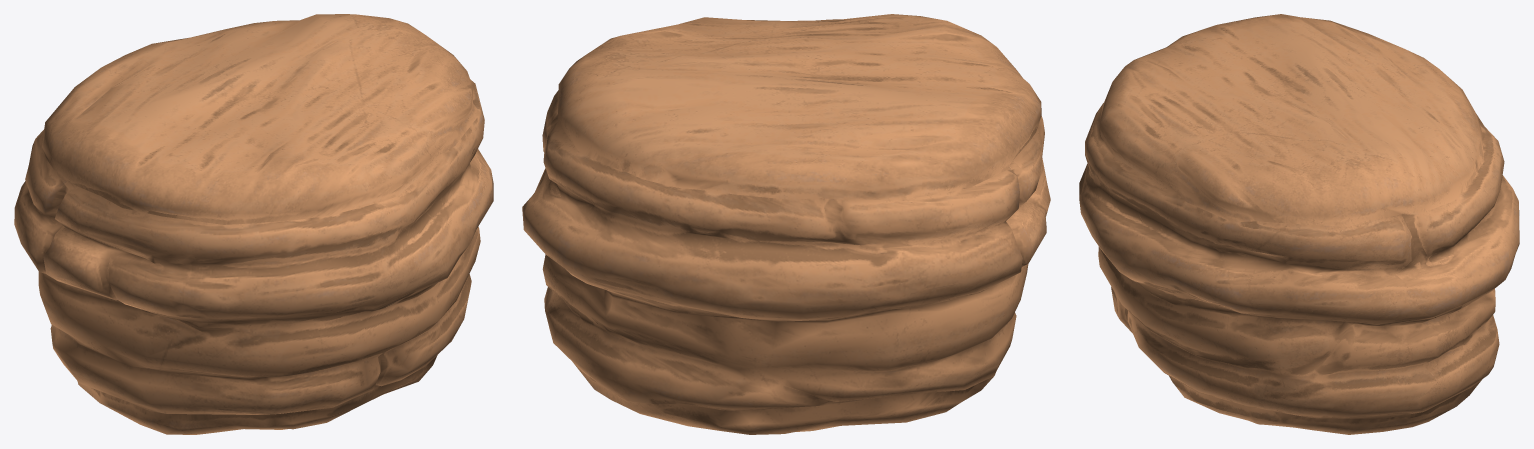
File: rock6.fbx
3 views of the same model, side by side, from view 1: azimuth 30°, elevation 25°; view 2: azimuth 150°, elevation 25°; view 3: azimuth 270°, elevation 25° (orthographic). The views are drawn at different scales.
Parts seen in each view (by area): view 1: Plane.062; view 2: Plane.062; view 3: Plane.062.
Part boxes in pixels (x1,y1,x2,y2): Plane.062: (14,14,493,434); Plane.062: (522,14,1050,434); Plane.062: (1079,14,1519,434).
Size of the model in its own units: 615 by 412 by 572.
1 material, 1 textured.
